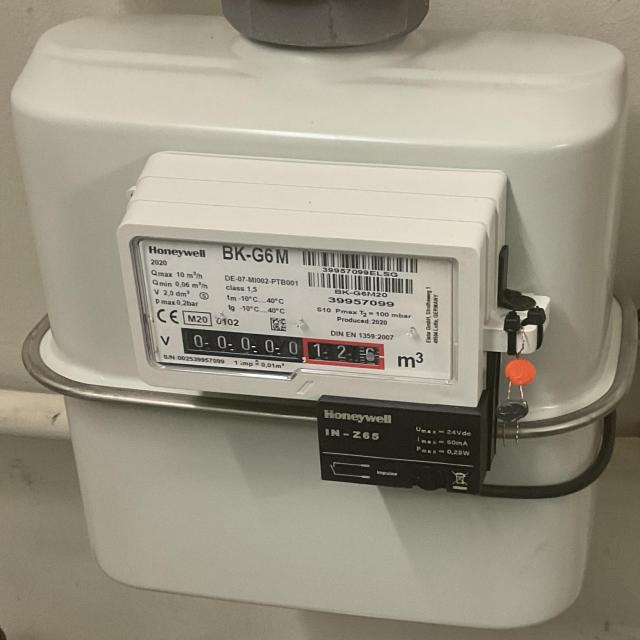gaz_meter: (137, 237, 456, 386)
indication: (182, 327, 384, 368)
